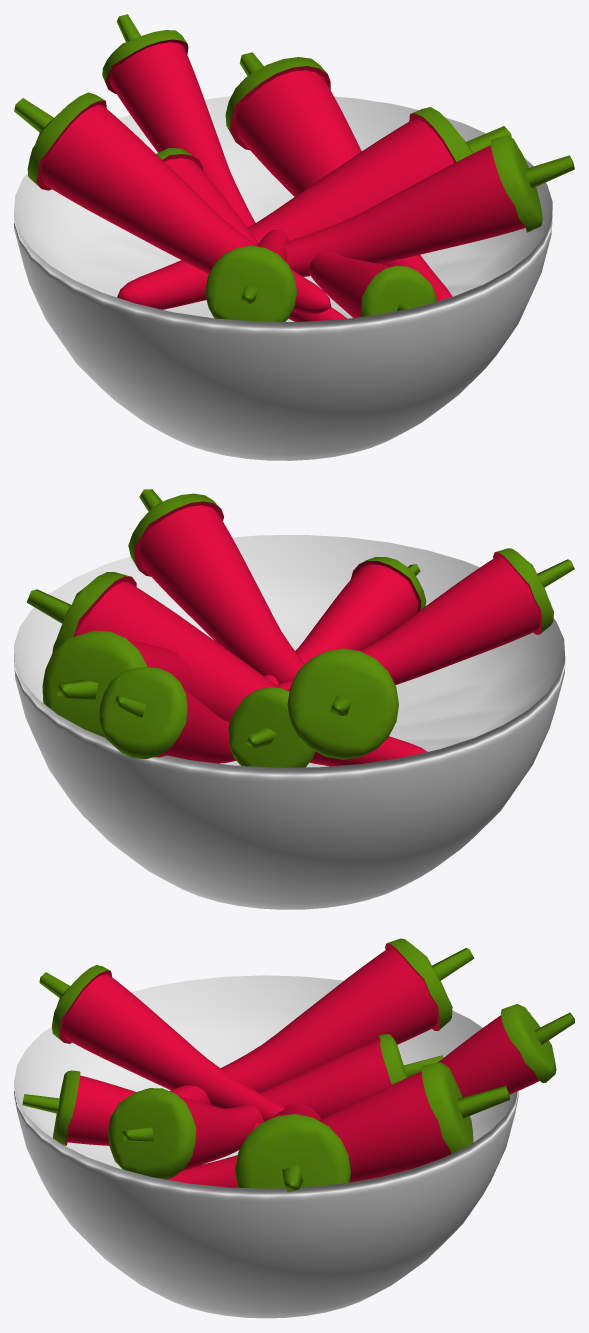
File: bowl_of_chili_pepper.fbx
The picture shows the model from 3 angles, top to bottom: view 1: azimuth 30°, elevation 25°; view 2: azimuth 150°, elevation 25°; view 3: azimuth 270°, elevation 25°; orthographic projection. The views are drawn at different scales.
Parts seen in each view (by area): view 1: pSphere2; view 2: pSphere2; view 3: pSphere2.
Boxes of the visible parts, x1,y1,x2,y2 form: pSphere2: (14, 14, 574, 460); pSphere2: (14, 489, 574, 909); pSphere2: (14, 938, 574, 1318).
Bounding box in the file's own units: 89.94 × 53.09 × 98.6.
